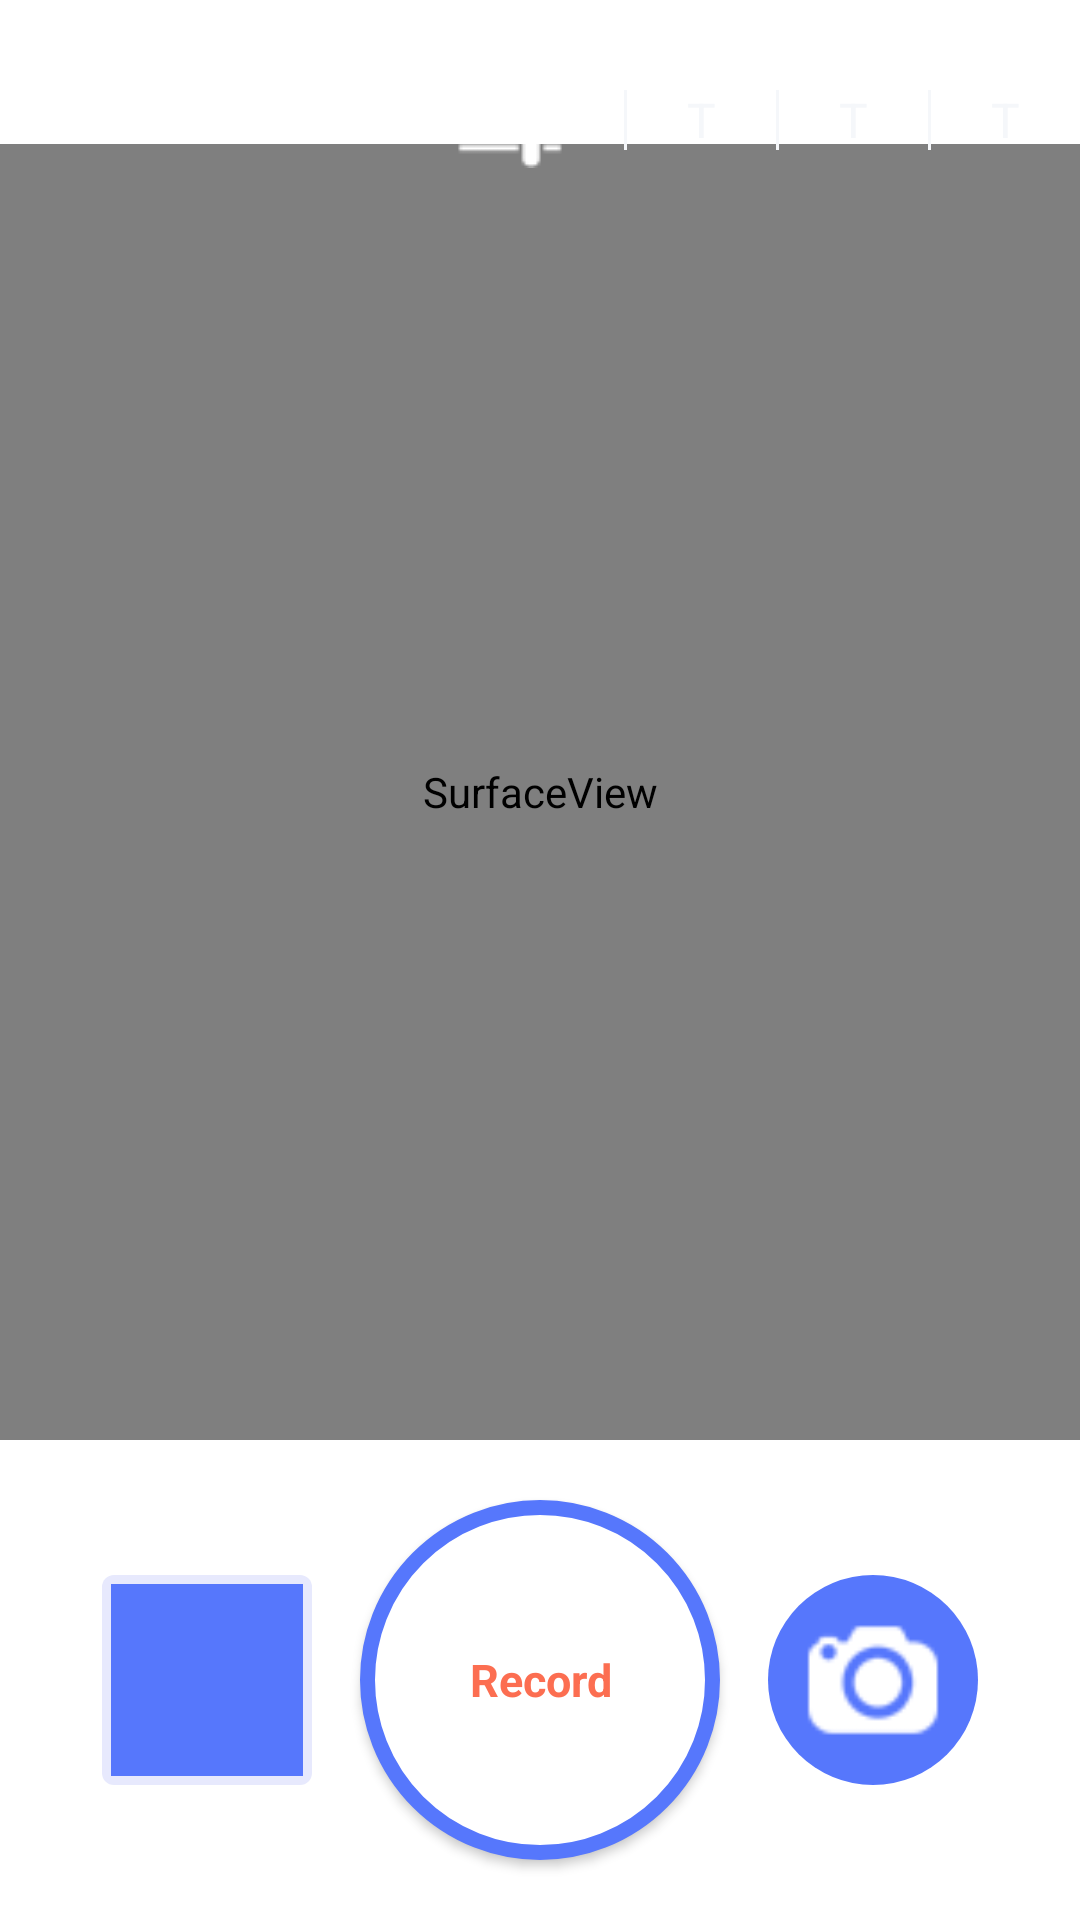

Screen size 1080×1920. Icon name, then its center in pixels as [x,y]:
camera: [873,1680]
